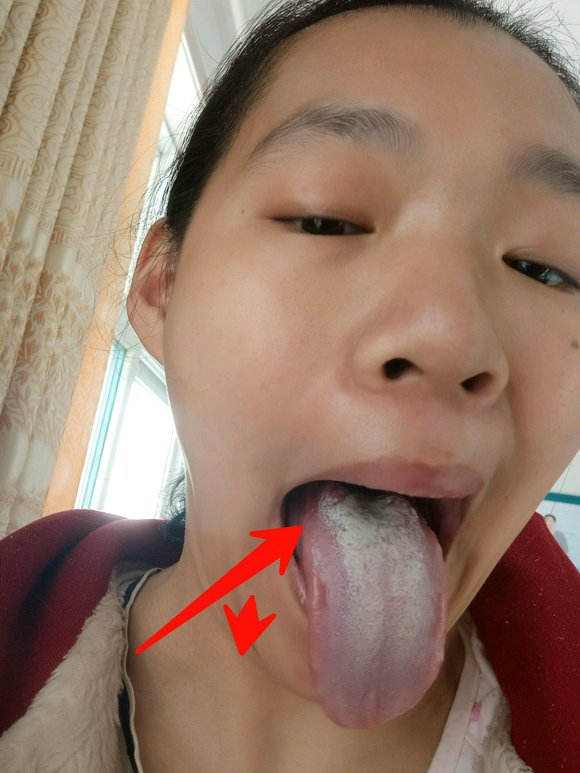baitaishe: (303, 481, 447, 730)
shenquao: (329, 482, 395, 511)
